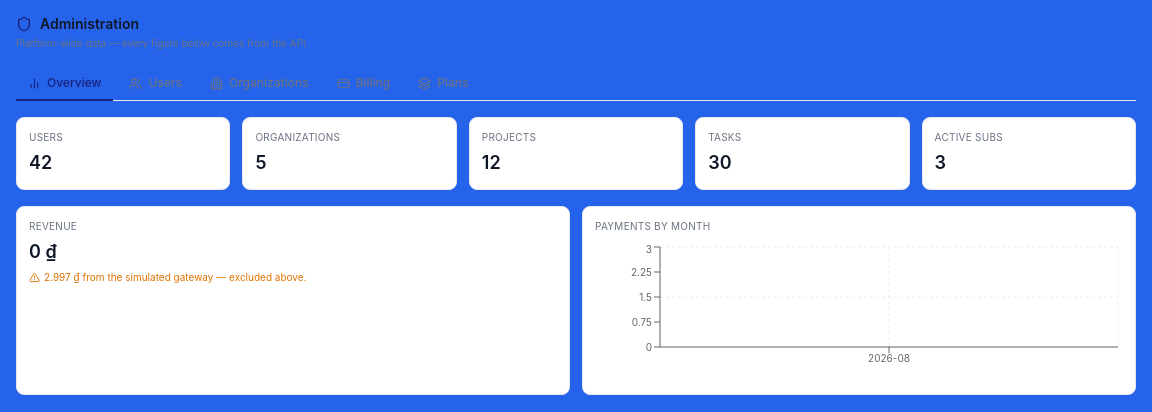
Test: AdministrationCenter › disables the admin's own status toggle so they cannot lock themselves out
Click the tab "Users" at x=156, y=84, box x1=118 y1=67 x2=194 y2=101
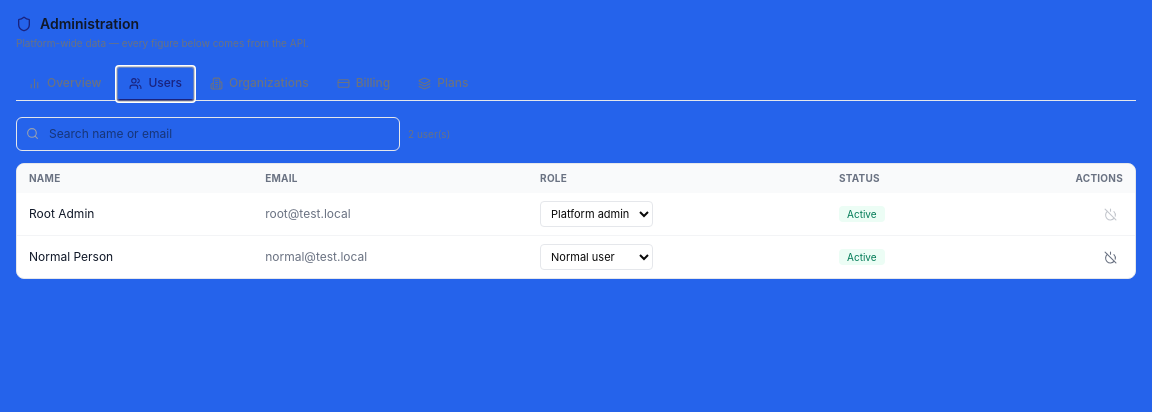
Check: the text "root@test.local" is shown, box x1=253 y1=193 x2=528 y2=236
Check: the button named "deactivate root admin" is disabled, box x1=1098 y1=202 x2=1123 y2=227
Check: the button named "deactivate normal person" is enabled, box x1=1098 y1=245 x2=1123 y2=270
